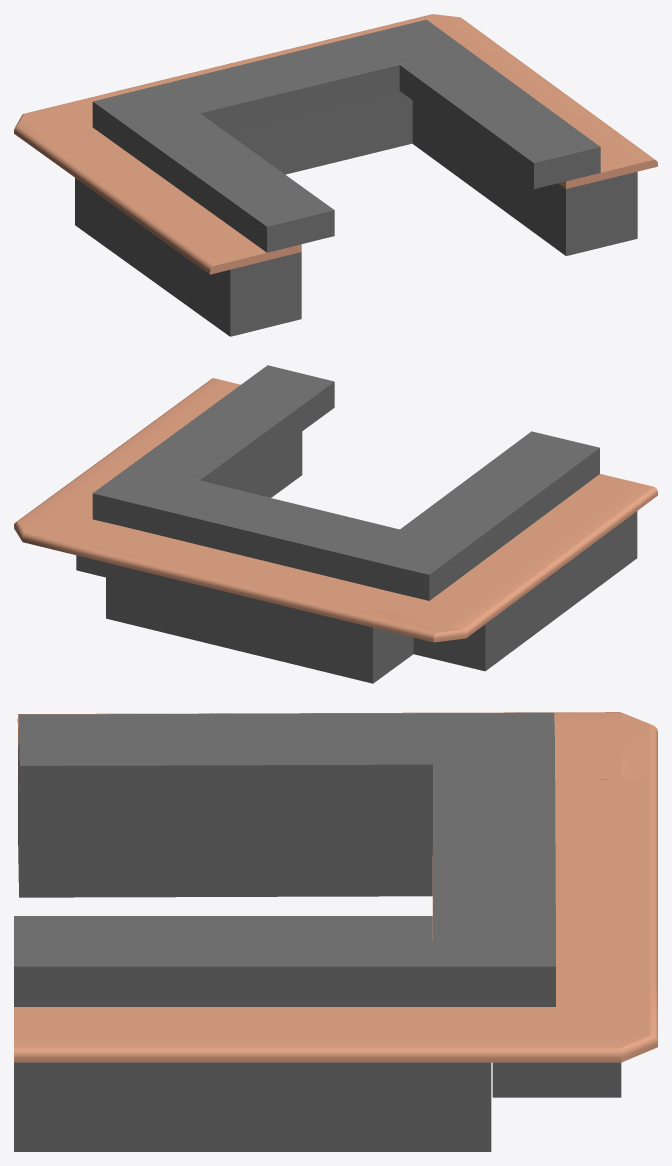
The model's file is SushiBarCounter.fbx.
3 views of the same model, one above another, from view 1: azimuth 30°, elevation 25°; view 2: azimuth 150°, elevation 25°; view 3: azimuth 270°, elevation 25° (orthographic). The views are drawn at different scales.
Visible parts, largest first — view 1: Cube.002; view 2: Cube.002; view 3: Cube.002.
Part boxes in pixels (box(x1,y1,x2,y2)): Cube.002: box(14, 14, 657, 336); Cube.002: box(14, 365, 657, 683); Cube.002: box(14, 712, 657, 1151).
Size of the model in its own units: 2075 by 445 by 1655.
